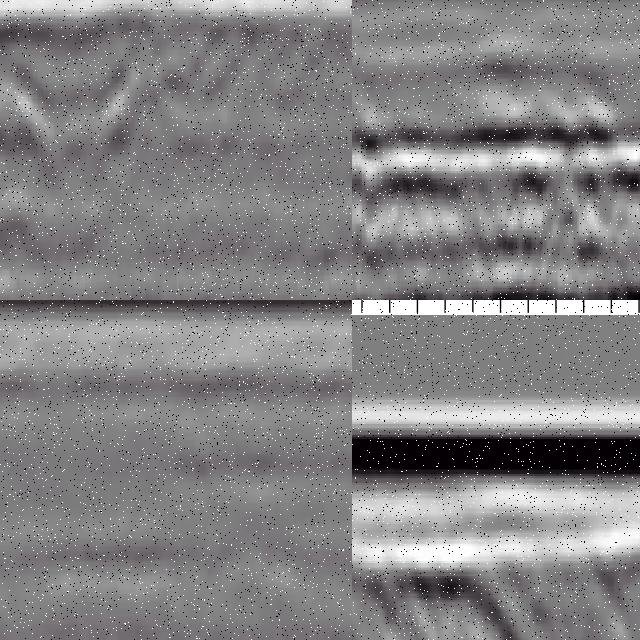loose: (353, 103, 640, 301), (1, 26, 300, 174), (353, 540, 640, 640)
